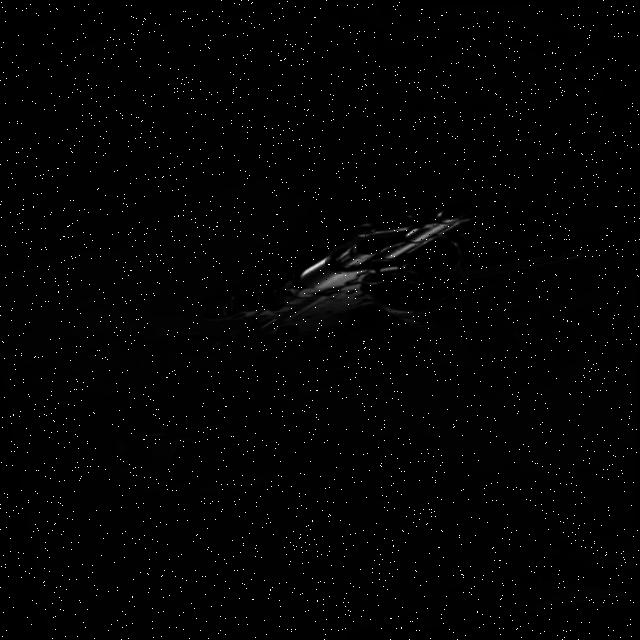firearm: (185, 170, 635, 348)
